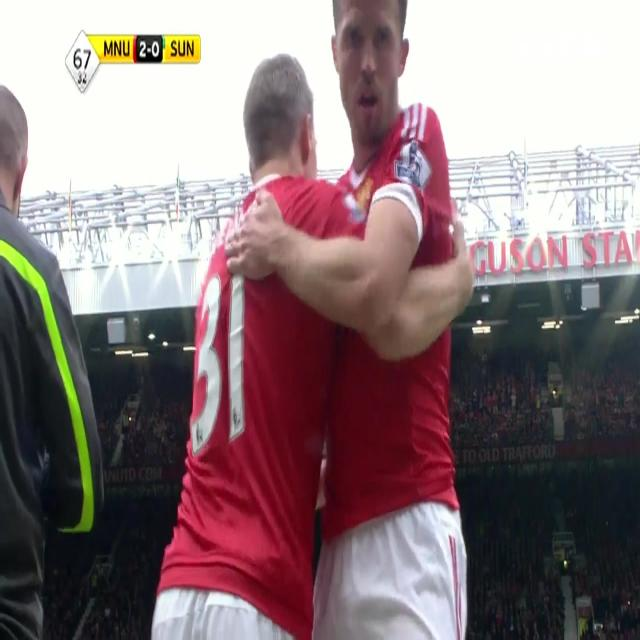Player: (151, 50, 343, 640), (325, 0, 476, 639)
